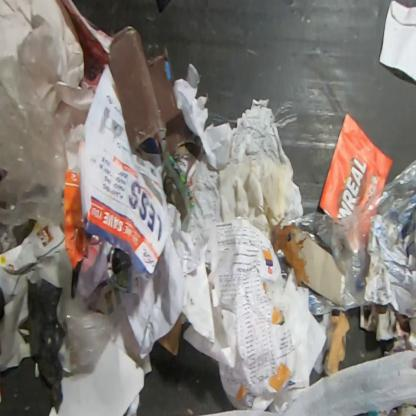soft_plastic: (287, 158, 416, 316), (0, 30, 77, 255), (55, 292, 122, 382), (277, 250, 290, 281)
